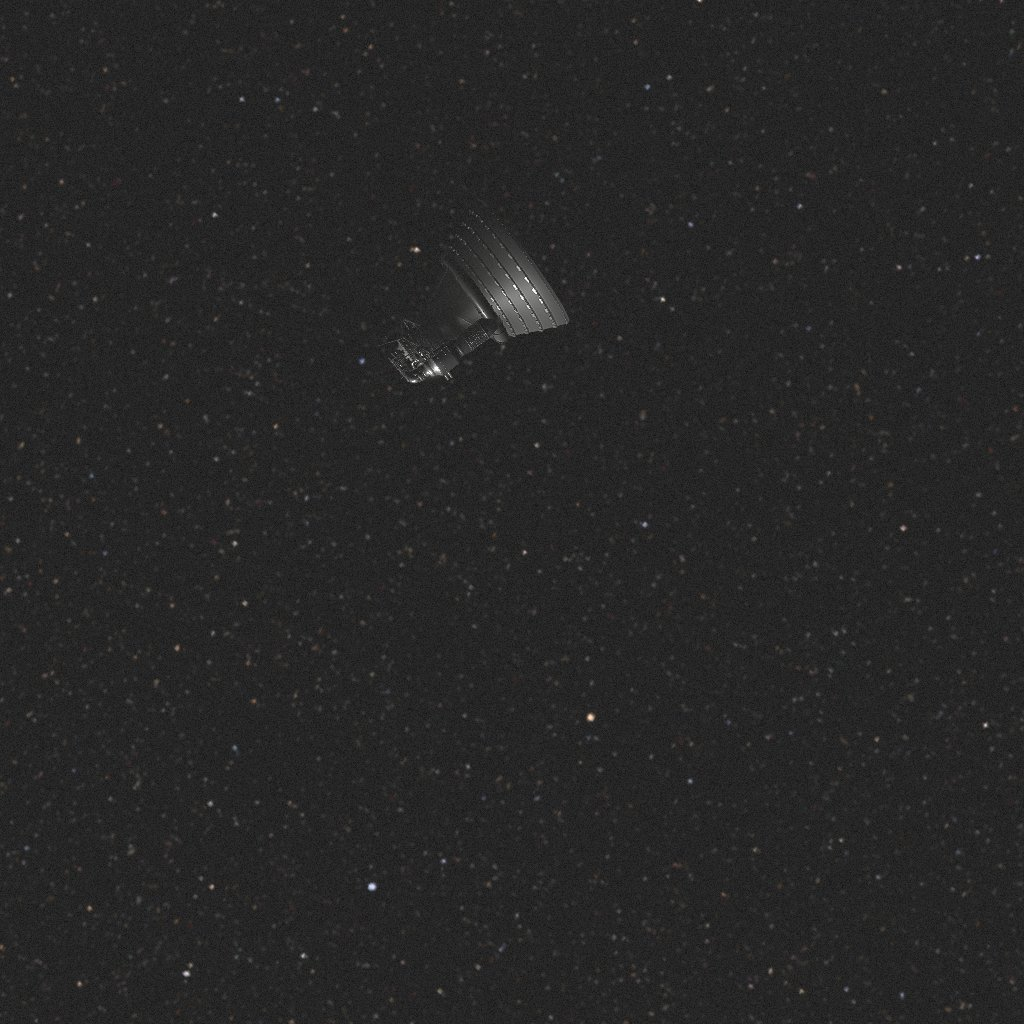debris: (379, 199, 570, 383)
